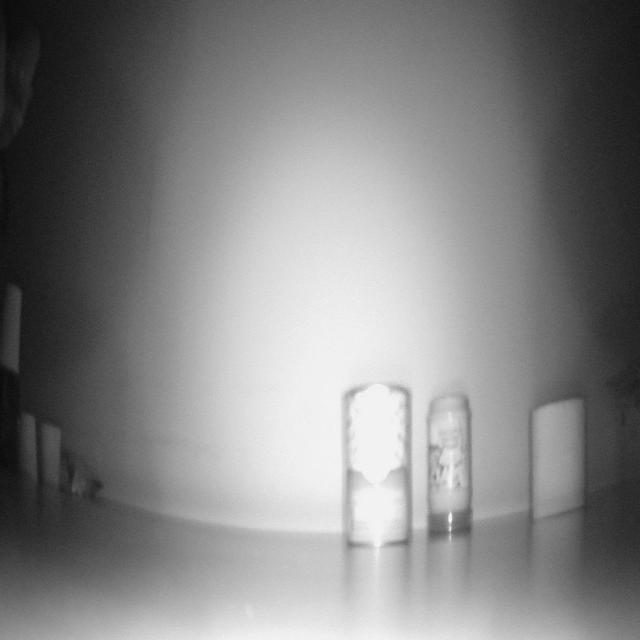targets: (342, 386, 413, 548), (528, 398, 590, 526), (426, 397, 472, 532), (2, 283, 23, 371), (16, 413, 39, 483), (42, 422, 62, 491)
